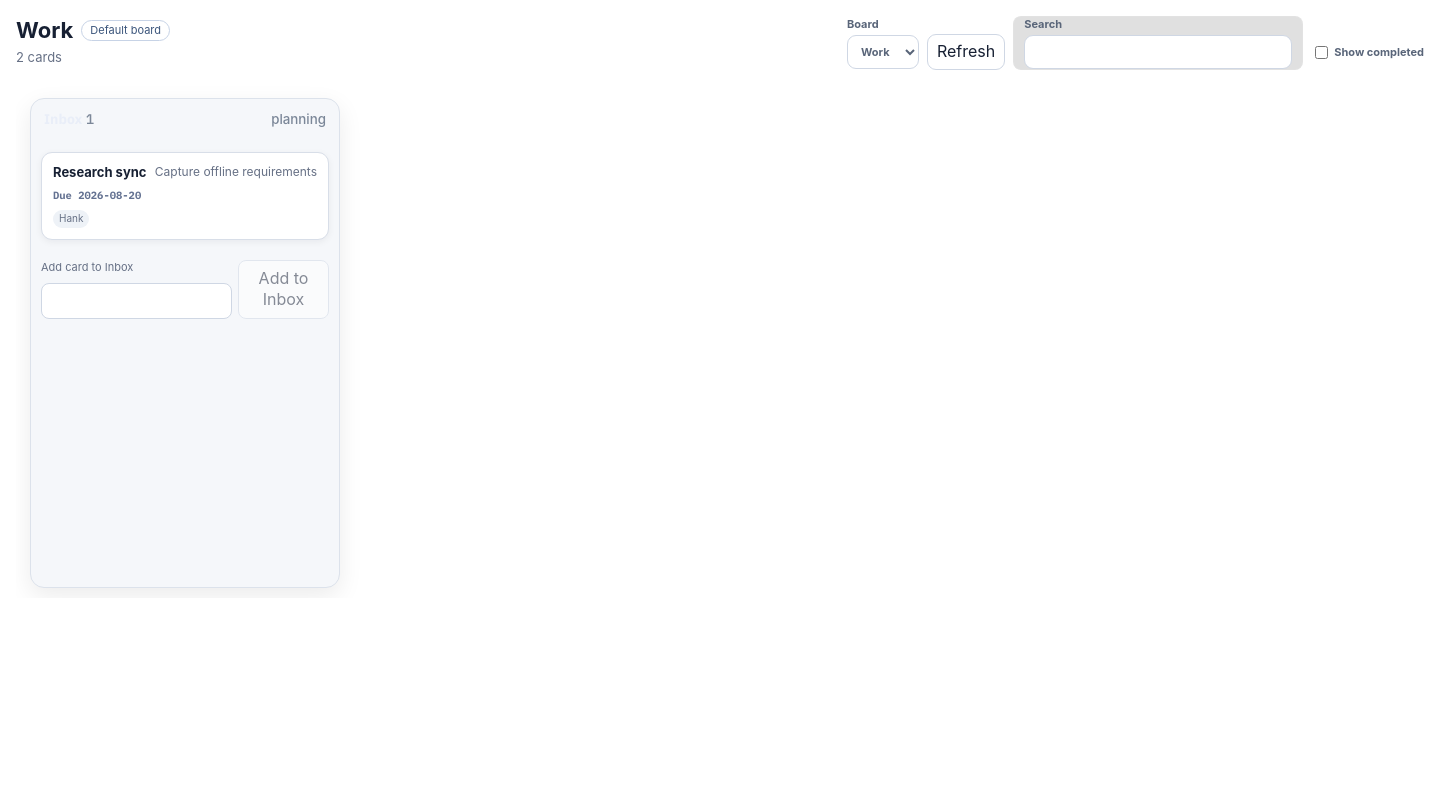
Test: KanbanApp browsing › switches boards through open_kanban and keeps the last good board on failure
Select "Home" in the dropdown labelled "Board" at (883, 52), box left=847, top=35, right=919, bottom=69
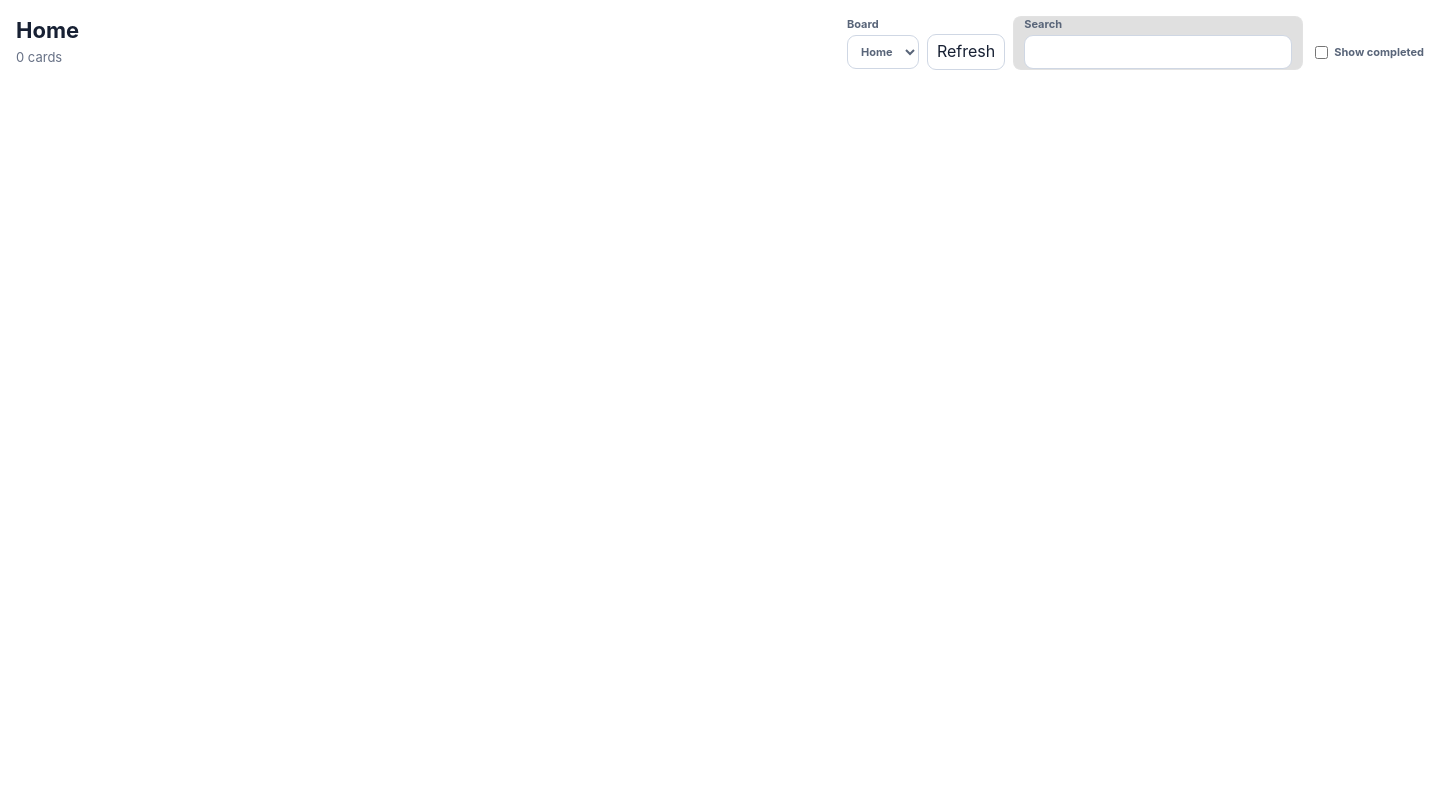
expect the heading "Home" is shown: met, box left=16, top=16, right=79, bottom=46
Click the button with aria-label "Refresh board" at (966, 52), box left=927, top=34, right=1005, bottom=70
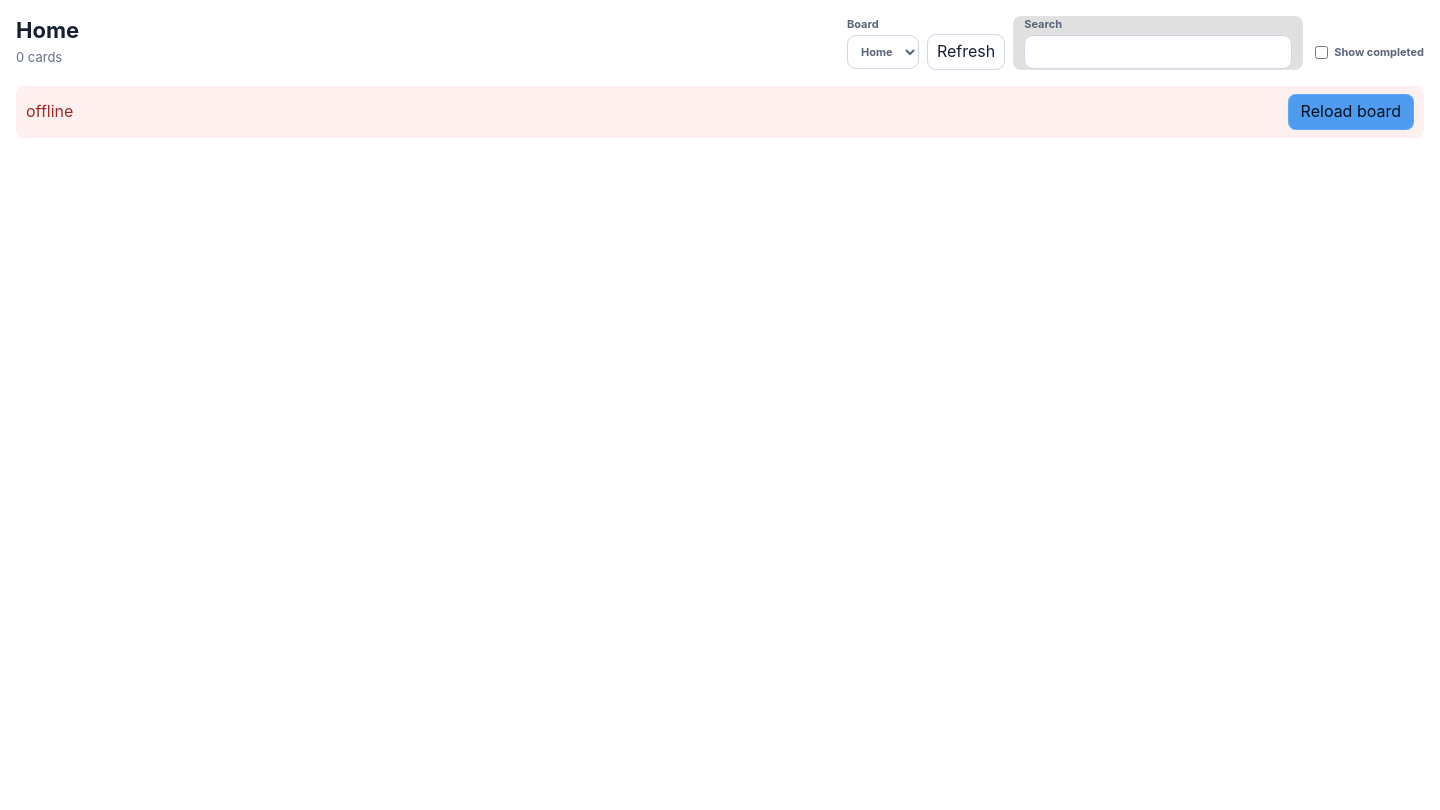
expect the heading "Home" is shown: met, box left=16, top=16, right=79, bottom=46
expect the message shows "offline": met, box left=26, top=101, right=73, bottom=121
